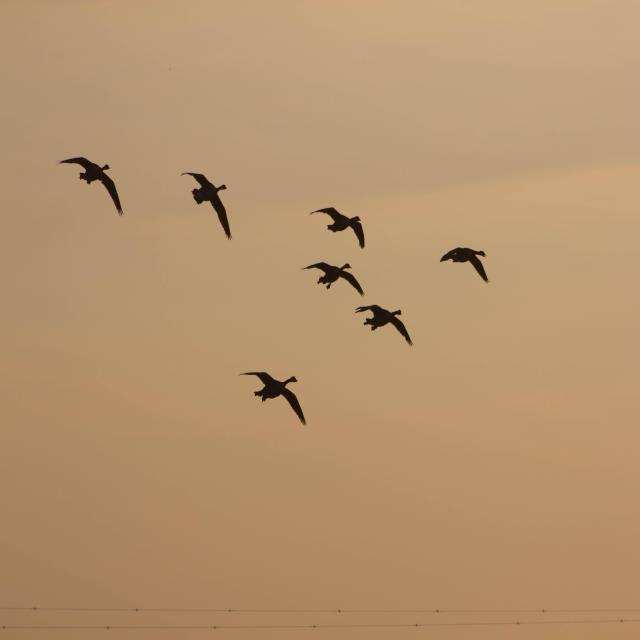bird: (54, 152, 127, 220), (236, 370, 310, 430), (180, 168, 236, 246), (308, 203, 368, 251), (352, 304, 416, 349), (298, 259, 367, 300), (439, 244, 494, 286)
